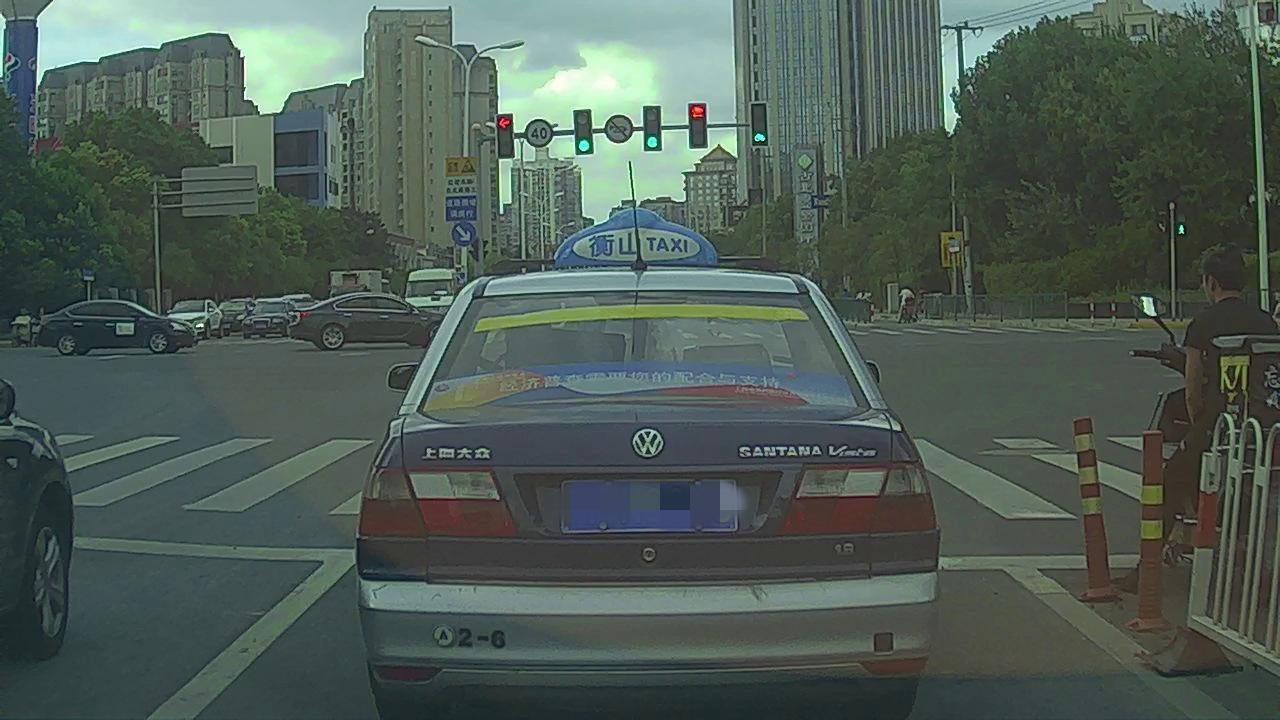traffic_light: (573, 110, 593, 154), (643, 107, 661, 152), (690, 103, 707, 147), (751, 104, 768, 146), (497, 114, 513, 157)
